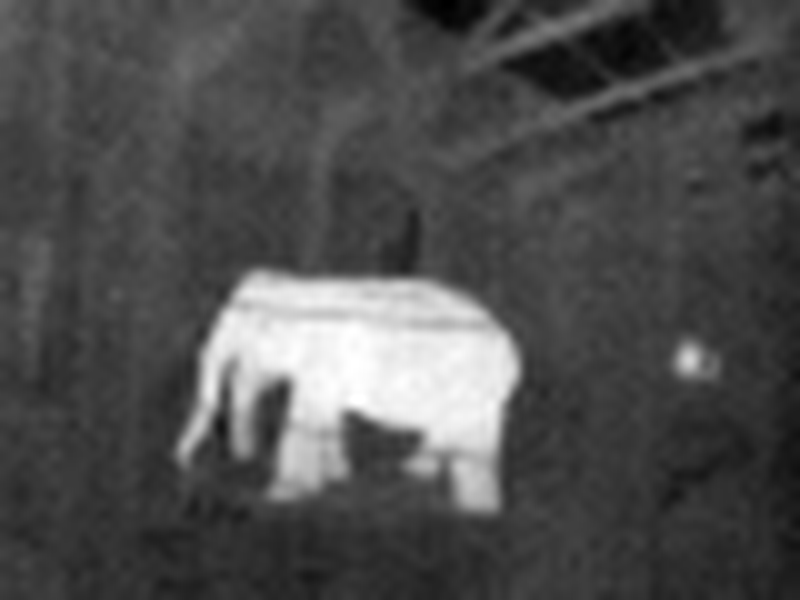elephant: (190, 249, 516, 537)
